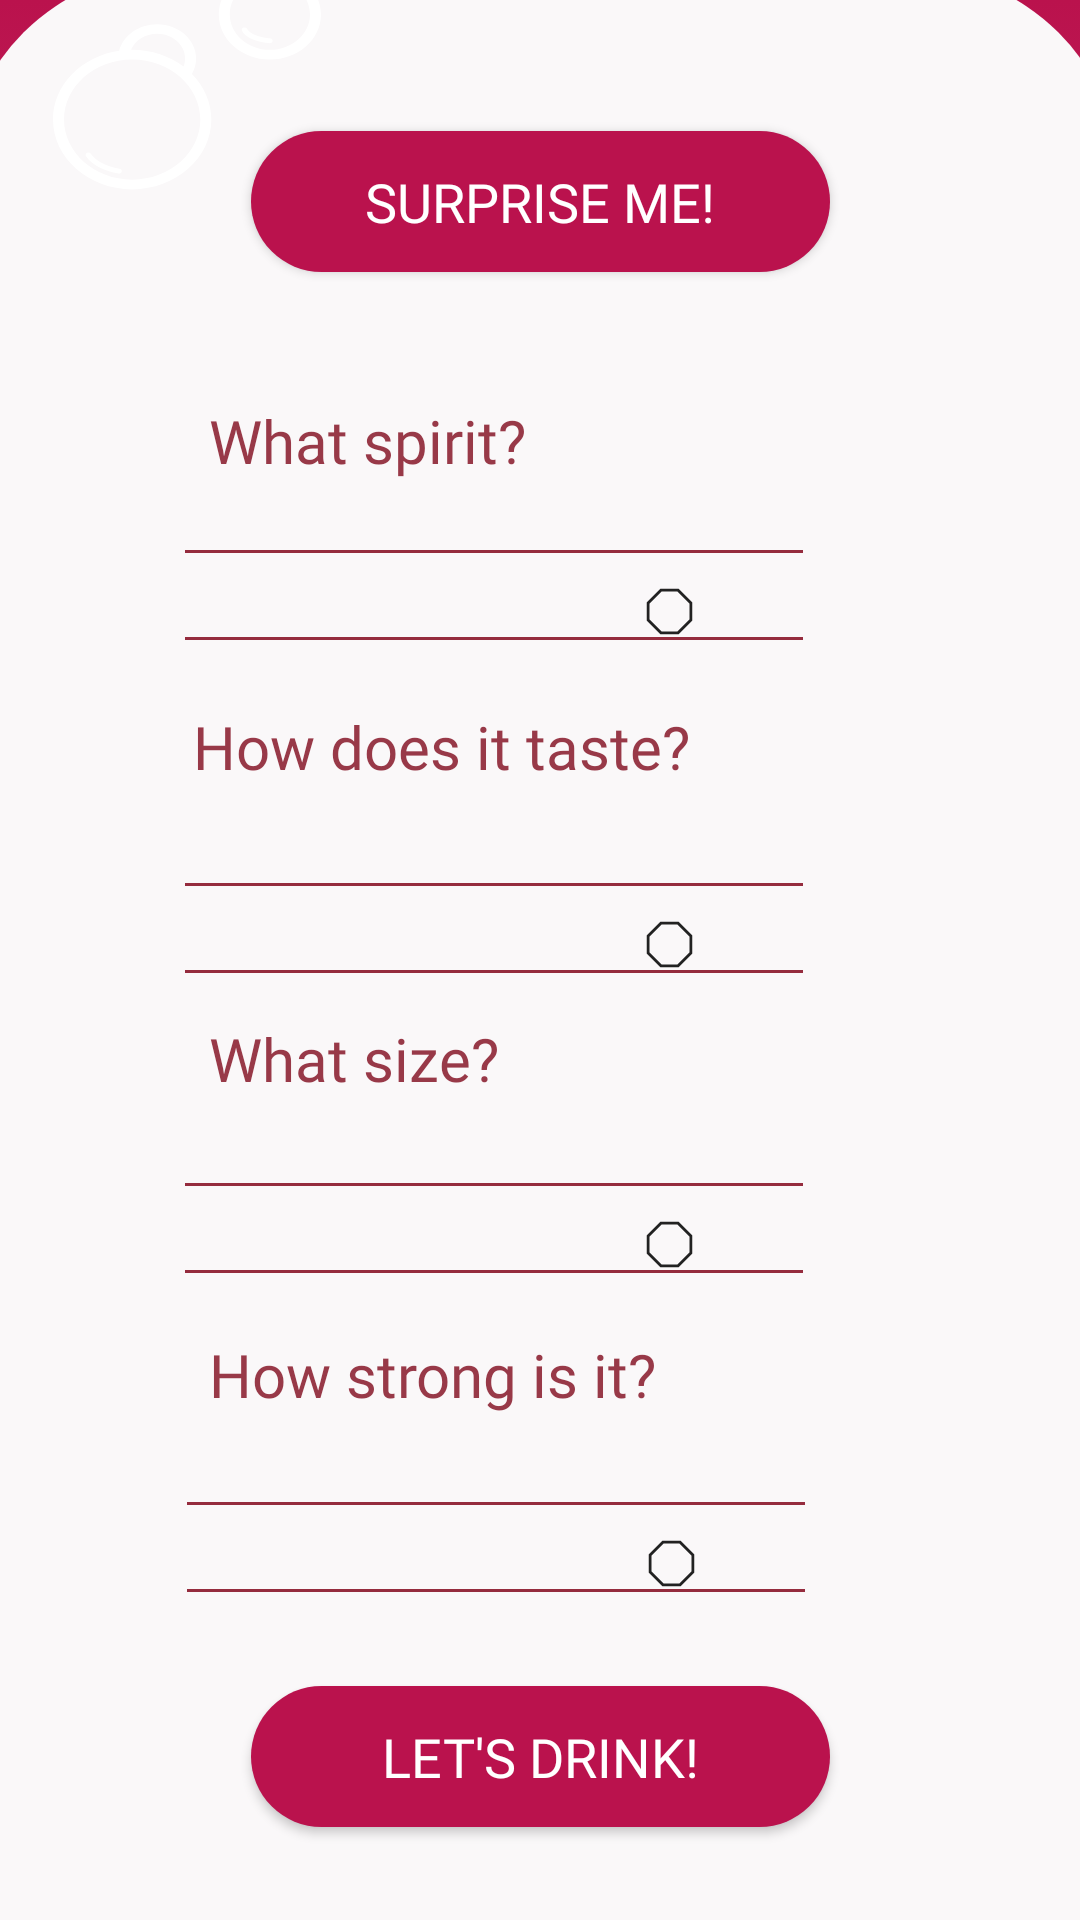

Where to tap for icons on this 1080px x 1920px app screen, as (x=x, y=y):
octagon: (x=669, y=611), (x=669, y=944), (x=669, y=1244), (x=671, y=1563)
